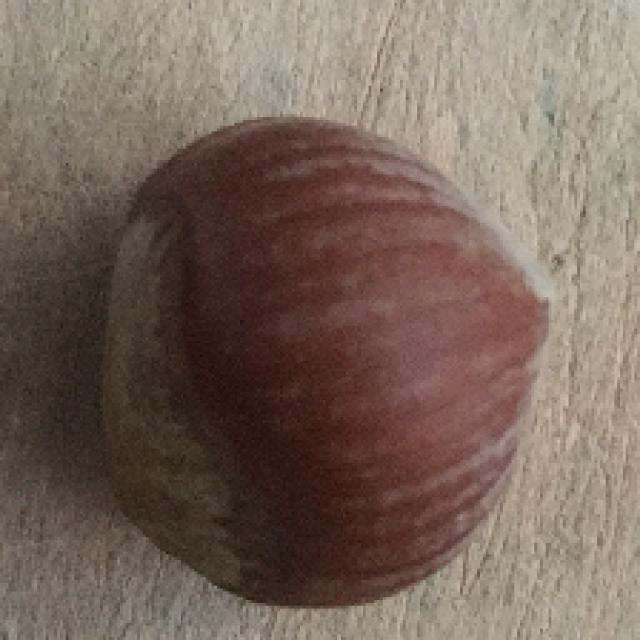qualityHazelnut: (81, 115, 551, 603)
